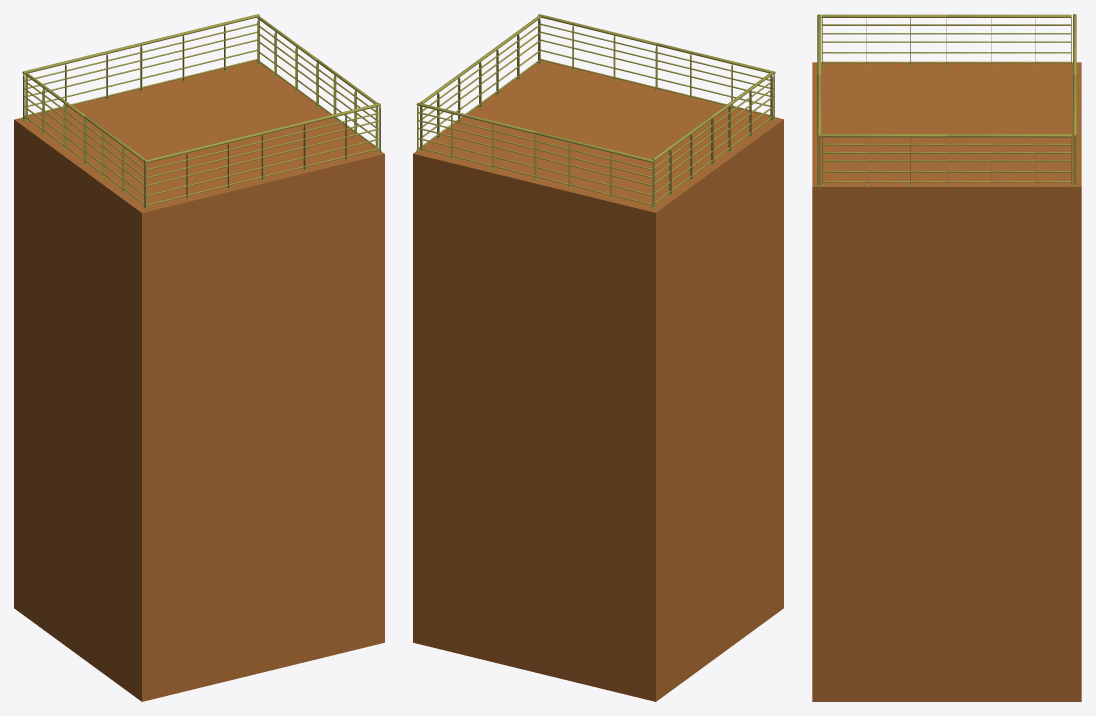
Rendered from lft-platform.glb.
3 views of the same model, side by side, from view 1: azimuth 30°, elevation 25°; view 2: azimuth 150°, elevation 25°; view 3: azimuth 270°, elevation 25° (orthographic). The views are drawn at different scales.
Parts seen in each view (by area): view 1: Box; view 2: Box; view 3: Box, Cylinder (×2), Cylinder_Korkuluk001_0_1 (×2).
Part boxes in pixels (<box>): Box: <box>14,60,384,701</box>; Box: <box>413,60,783,701</box>; Box: <box>812,62,1081,701</box>; Cylinder (×2): <box>821,14,946,137</box>; Cylinder_Korkuluk001_0_1 (×2): <box>946,14,1071,137</box>.
Bounding box in the file's own units: 4.18 × 8.84 × 3.81.
